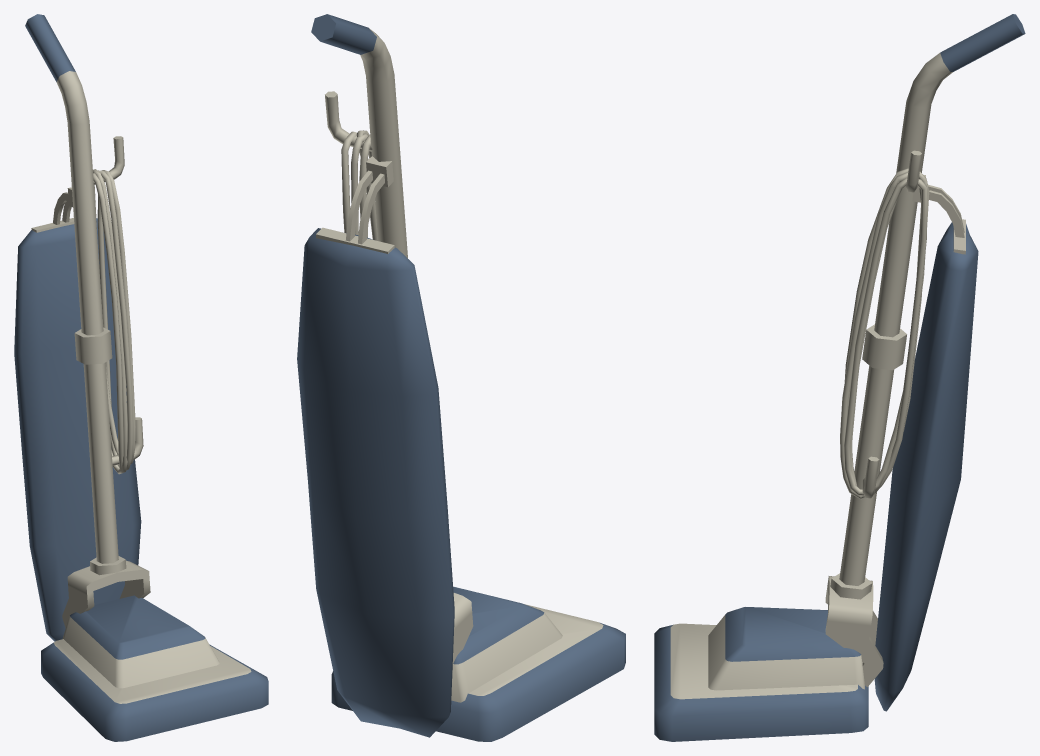
The model's file is VacuumCleaner_01.fbx.
3 views of the same model, side by side, from view 1: azimuth 30°, elevation 25°; view 2: azimuth 150°, elevation 25°; view 3: azimuth 270°, elevation 25° (orthographic). The views are drawn at different scales.
Parts seen in each view (by area): view 1: VacuumCleaner_01; view 2: VacuumCleaner_01; view 3: VacuumCleaner_01.
Boxes of the visible parts, <box> form: VacuumCleaner_01: <box>14,14,268,741</box>; VacuumCleaner_01: <box>297,14,625,741</box>; VacuumCleaner_01: <box>654,14,1025,741</box>.
Size of the model in its own units: 0.4086 by 1.44 by 0.7082.
